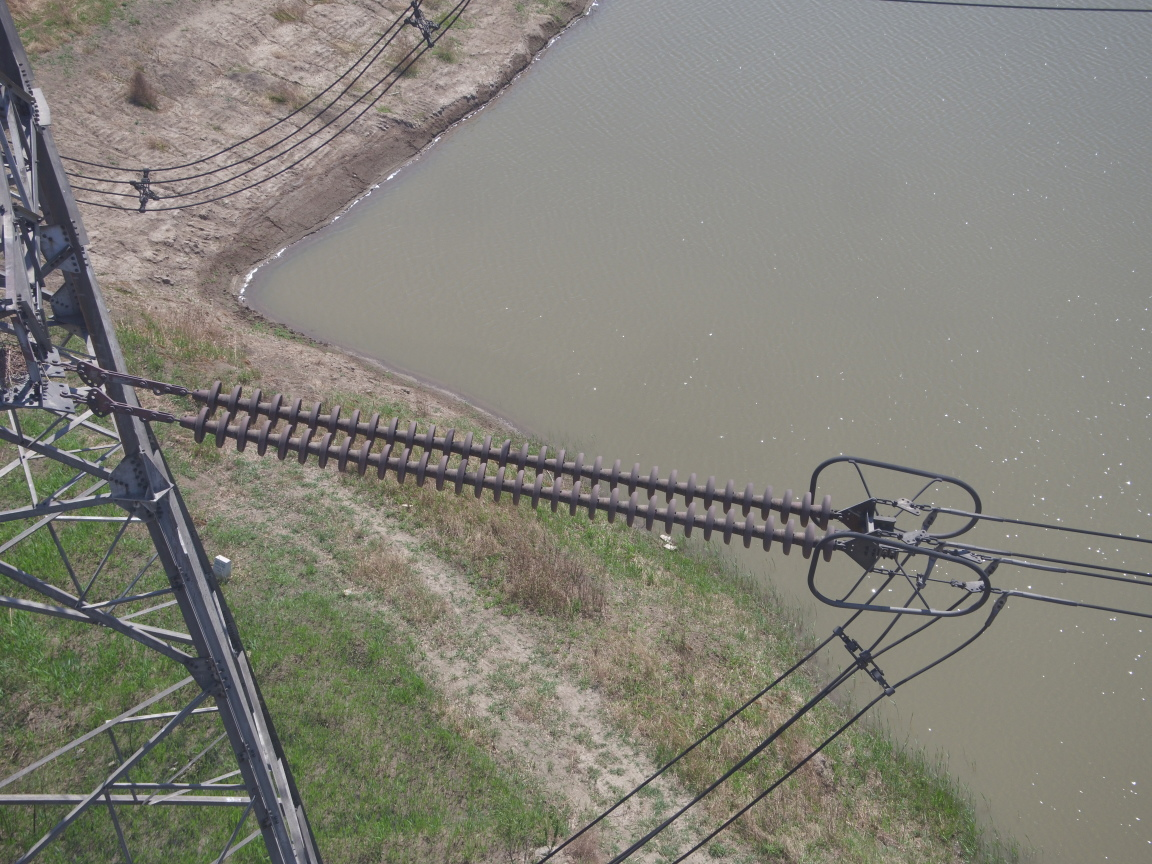insulator: (131, 376, 863, 565)
